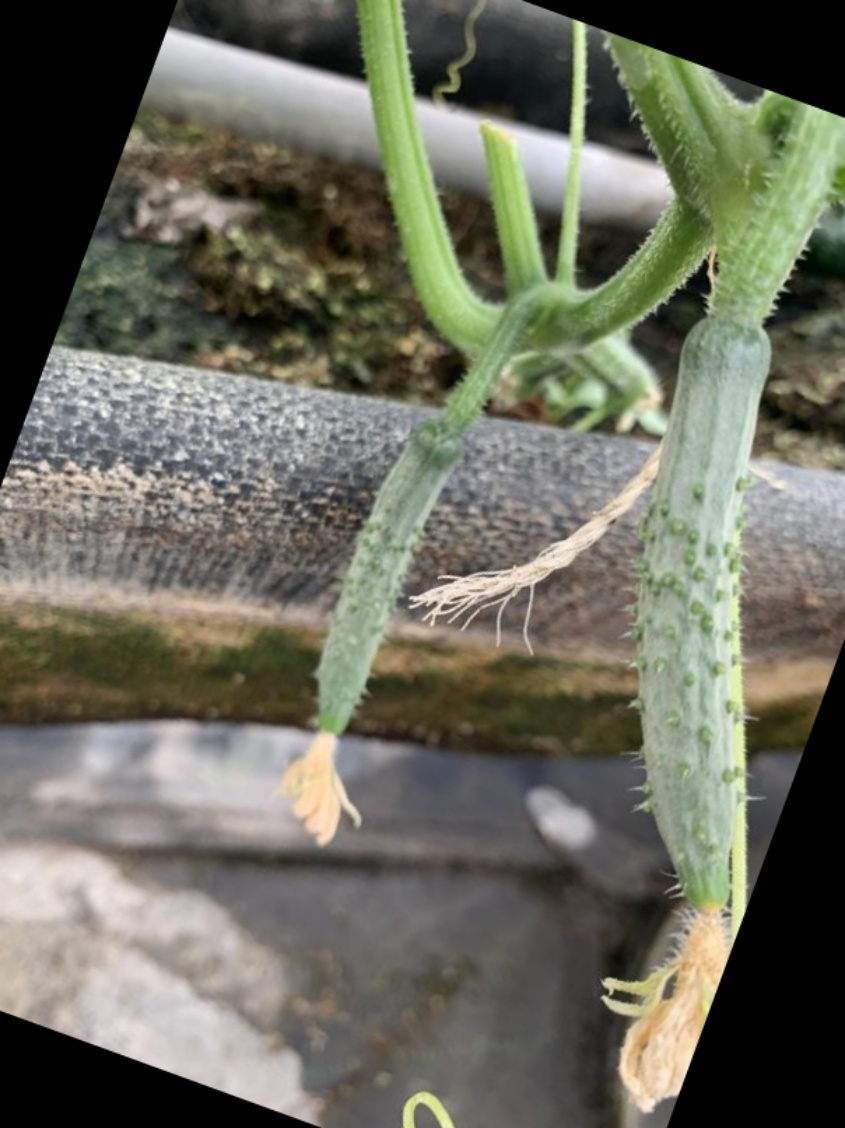growth: (296, 405, 472, 816)
